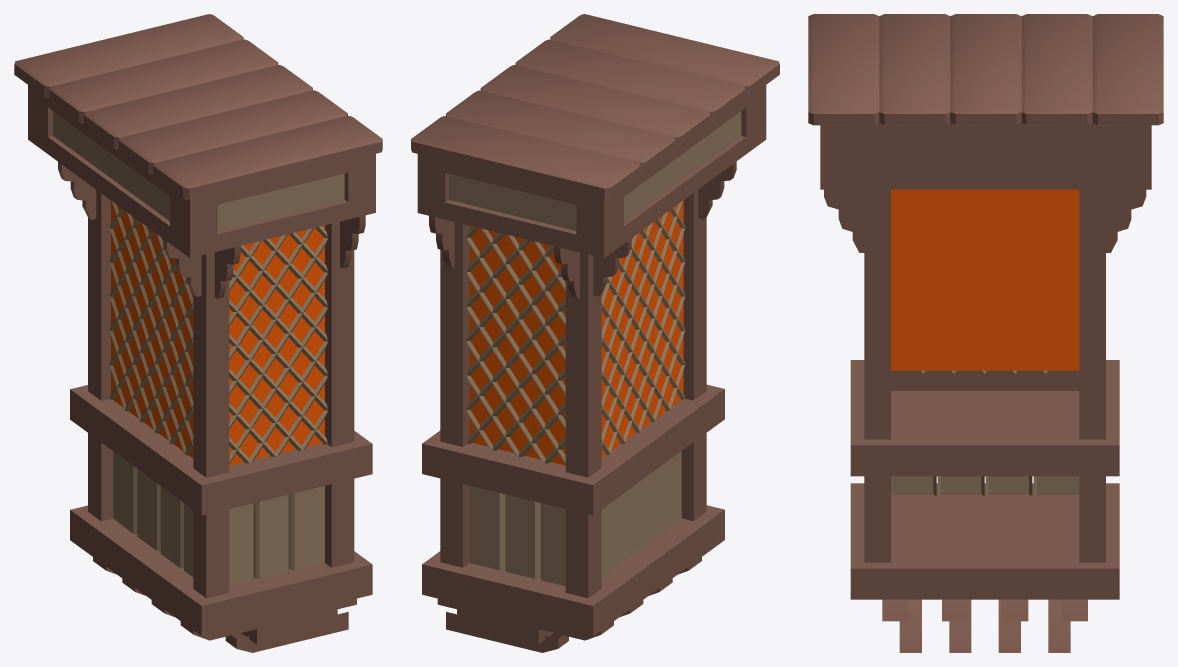
Rendered from balcony_3.FBX.
The picture shows the model from 3 angles, left to right: view 1: azimuth 30°, elevation 25°; view 2: azimuth 150°, elevation 25°; view 3: azimuth 270°, elevation 25°; orthographic projection. The views are drawn at different scales.
Parts seen in each view (by area): view 1: balcony_3_LOD0; view 2: balcony_3_LOD0; view 3: balcony_3_LOD0.
Boxes of the visible parts, bbox=[...] form: balcony_3_LOD0: bbox=[14, 14, 382, 652]; balcony_3_LOD0: bbox=[411, 14, 779, 652]; balcony_3_LOD0: bbox=[808, 14, 1163, 652].
Size of what is drawn, in the model's own units: 183 by 442 by 265.
